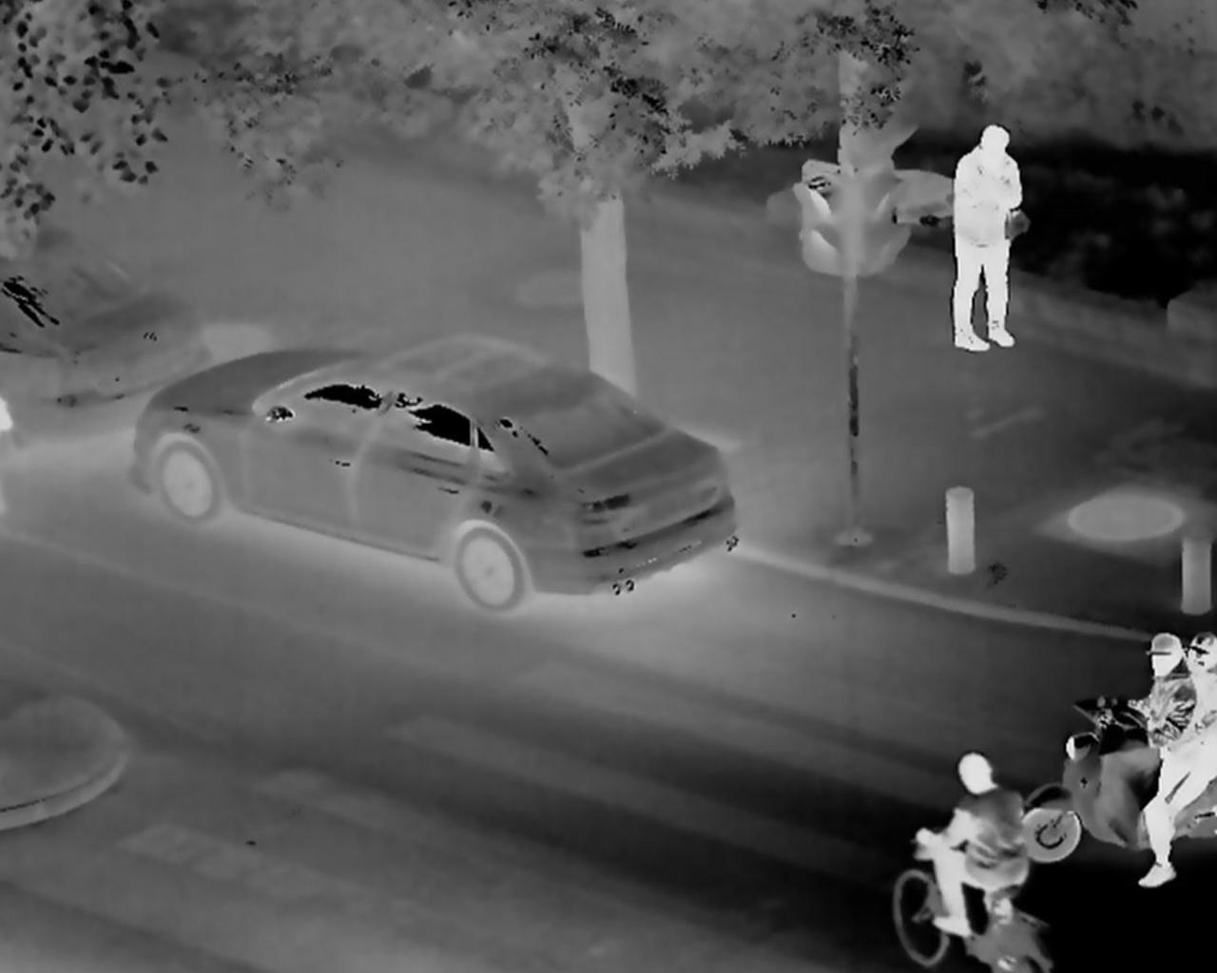person: (918, 749, 1035, 966), (942, 116, 1026, 364), (1136, 619, 1187, 905), (1180, 607, 1217, 847)
